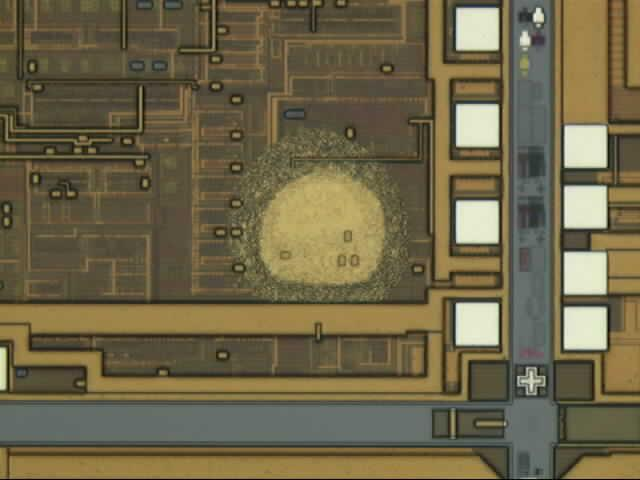BLOCK ETCH: (224, 124, 416, 305)
